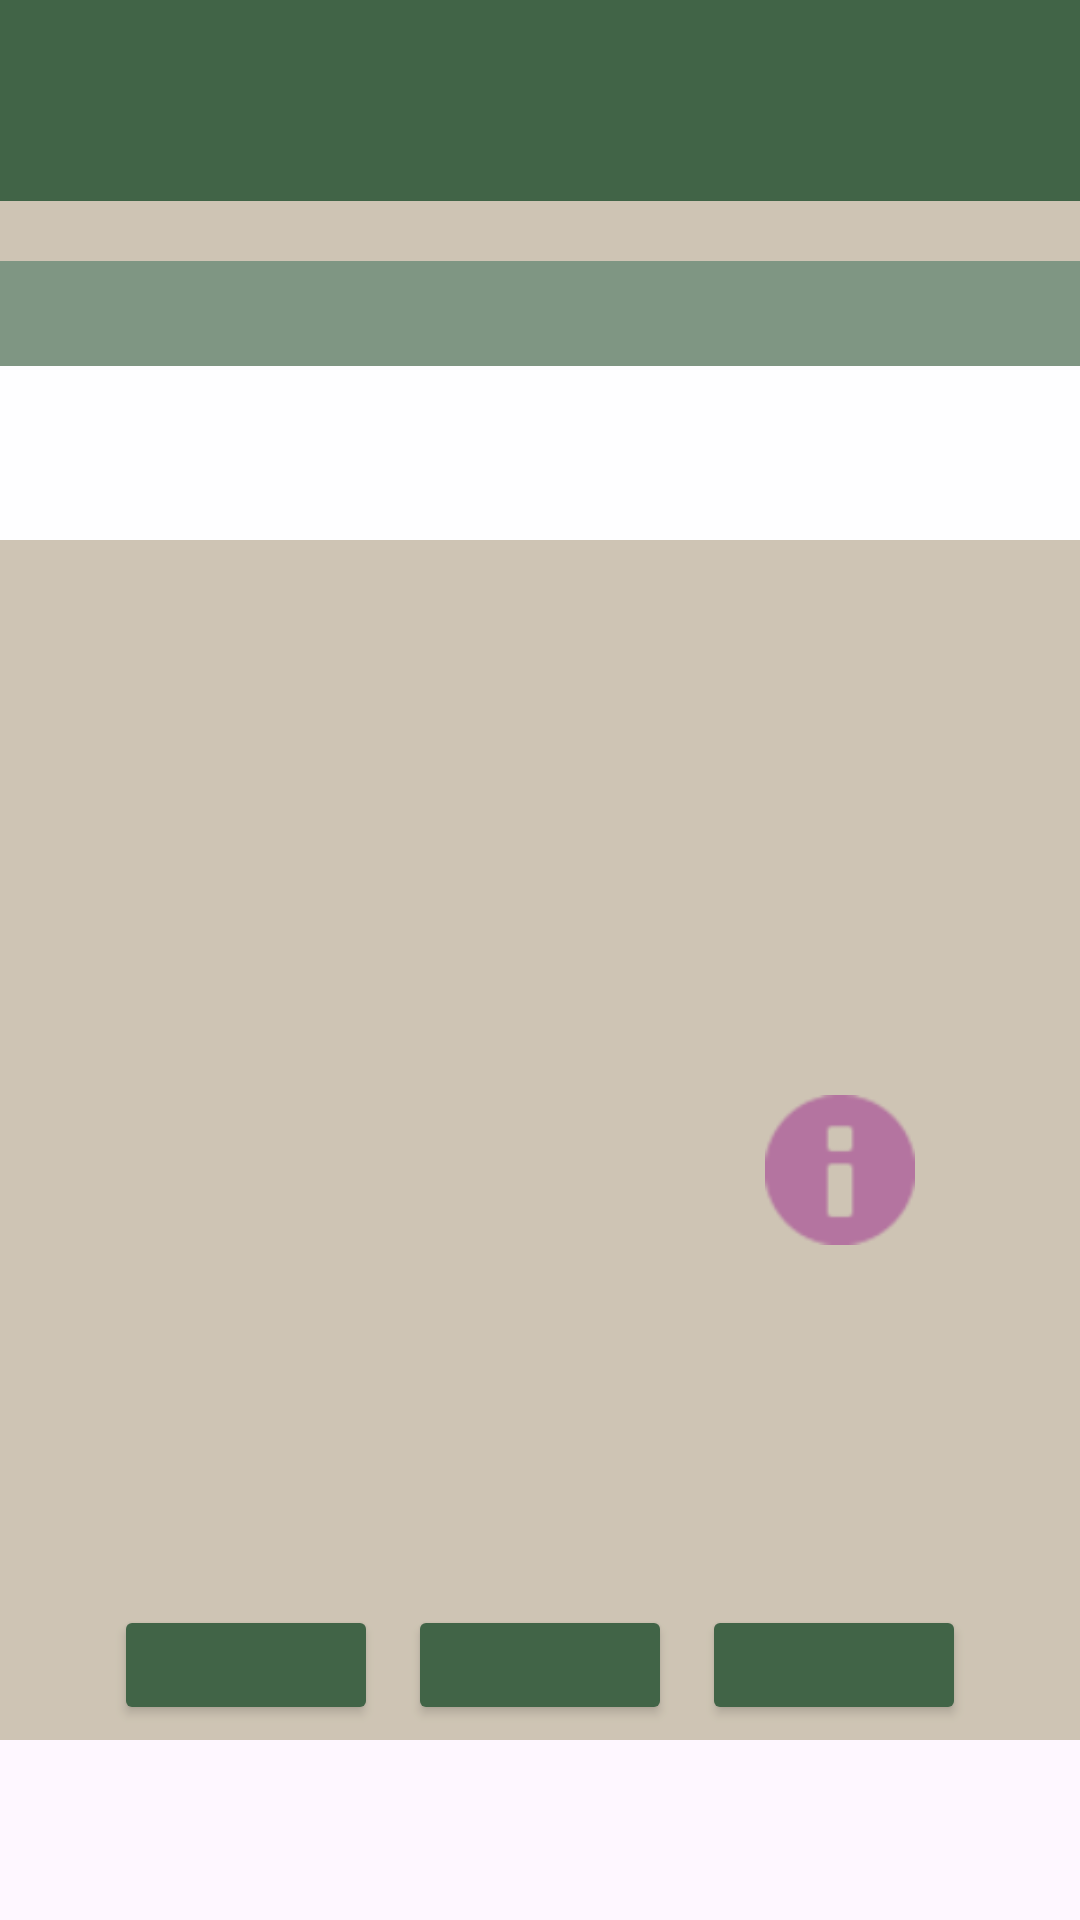

Named icons in this screenshot (1080px×1920px) and their bounding boxes, BBox(x1, y1, x2, y2):
info: BBox(765, 1095, 915, 1245)
